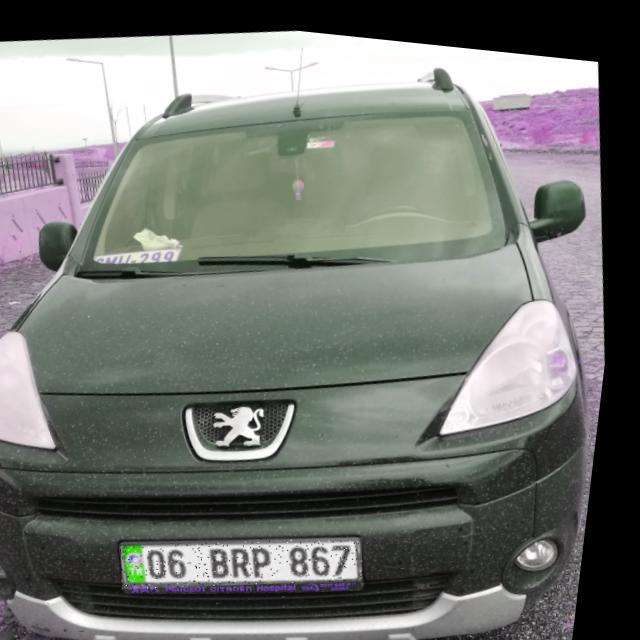license_plate: (130, 508, 380, 604)
